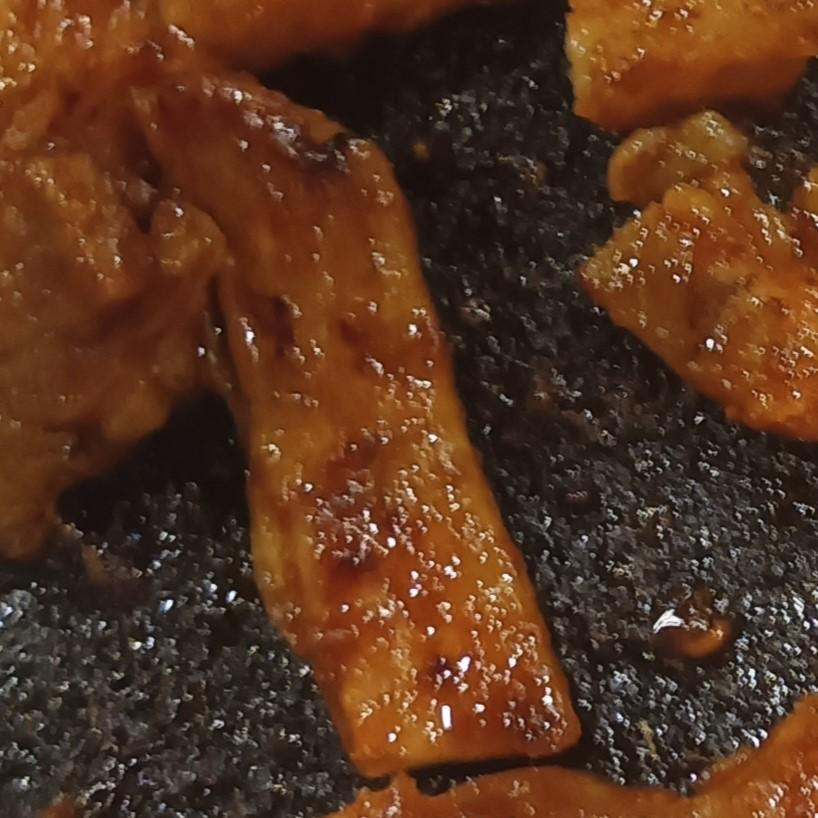Well-Cooked: (120, 40, 583, 781), (0, 94, 229, 567), (579, 123, 817, 455), (564, 0, 817, 138)
